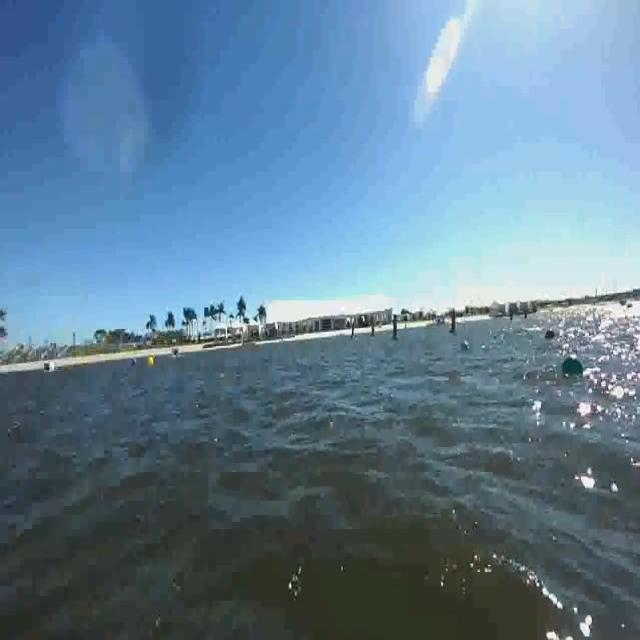green-buoy: (561, 352, 583, 377)
yellow-buoy: (148, 354, 155, 367)
